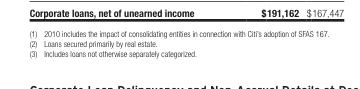table: (28, 28, 328, 57)
table column: (39, 28, 328, 57), (28, 28, 39, 57)
table row: (28, 28, 328, 38), (28, 38, 328, 48), (28, 48, 328, 57)
